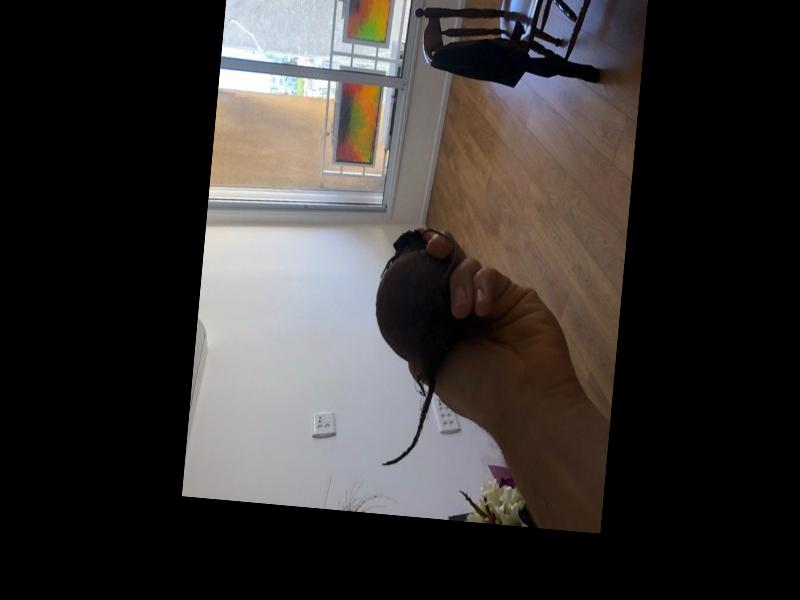Beet: (362, 223, 462, 468)
